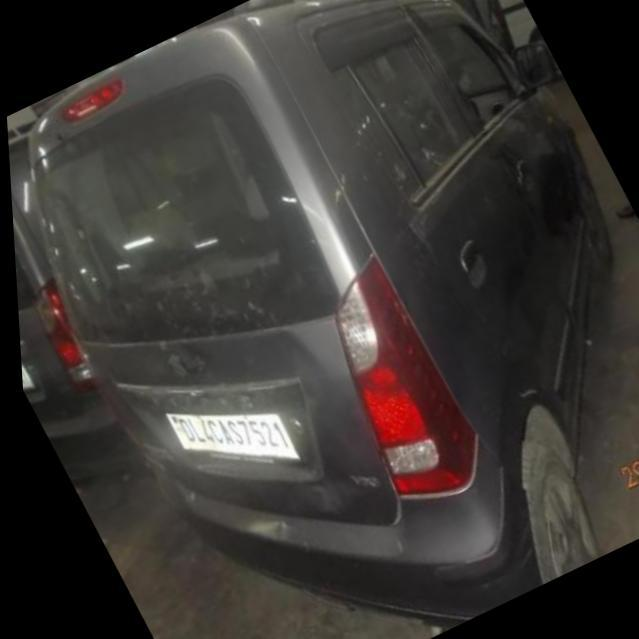dent: (240, 510, 301, 575), (295, 469, 360, 519), (271, 326, 321, 384)
